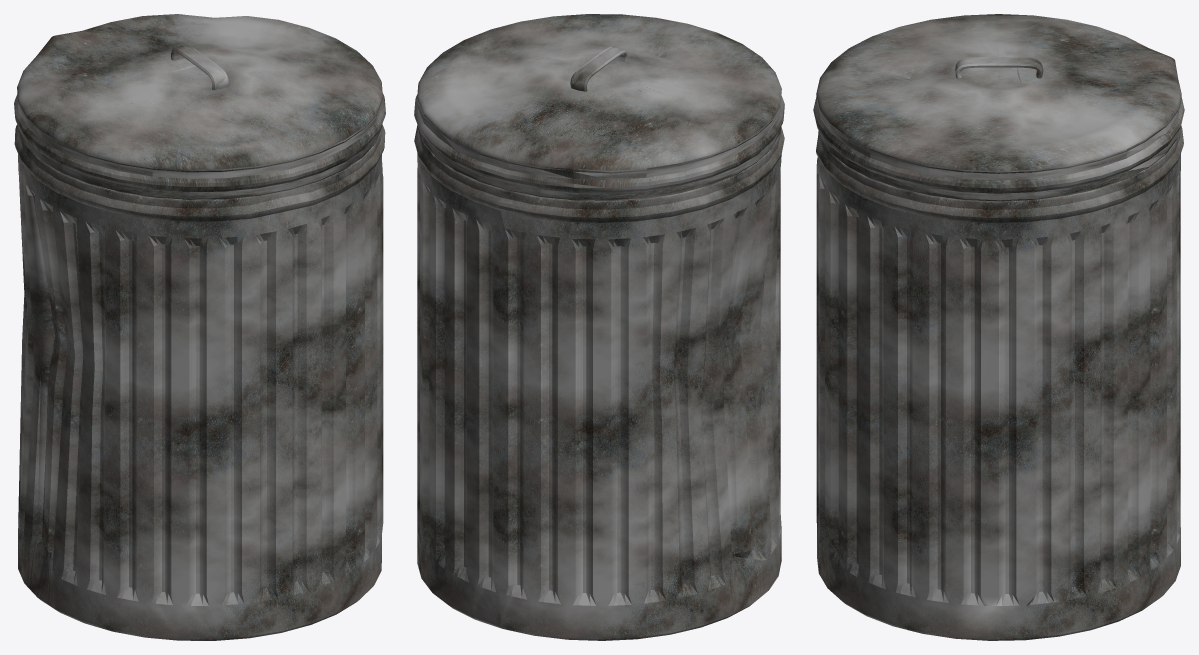
Rendered from trashbin.obj.
3 renders of one model, left to right at view 1: azimuth 30°, elevation 25°; view 2: azimuth 150°, elevation 25°; view 3: azimuth 270°, elevation 25°, orthographic.
Parts seen in each view (by area): view 1: contener, cover, handle; view 2: contener, cover, handle; view 3: contener, cover, handle.
Part boxes in pixels (x1=…): contener: x1=14, y1=124, x2=385, y2=640; cover: x1=14, y1=14, x2=385, y2=199; handle: x1=171, y1=45, x2=228, y2=90; contener: x1=414, y1=125, x2=784, y2=640; cover: x1=414, y1=14, x2=784, y2=200; handle: x1=570, y1=46, x2=628, y2=91; contener: x1=816, y1=125, x2=1183, y2=640; cover: x1=813, y1=14, x2=1184, y2=201; handle: x1=955, y1=57, x2=1043, y2=78.
Bounding box in the file's own units: 61.02 × 91.69 × 61.02.
Materials: 1 (1 with a texture image).
